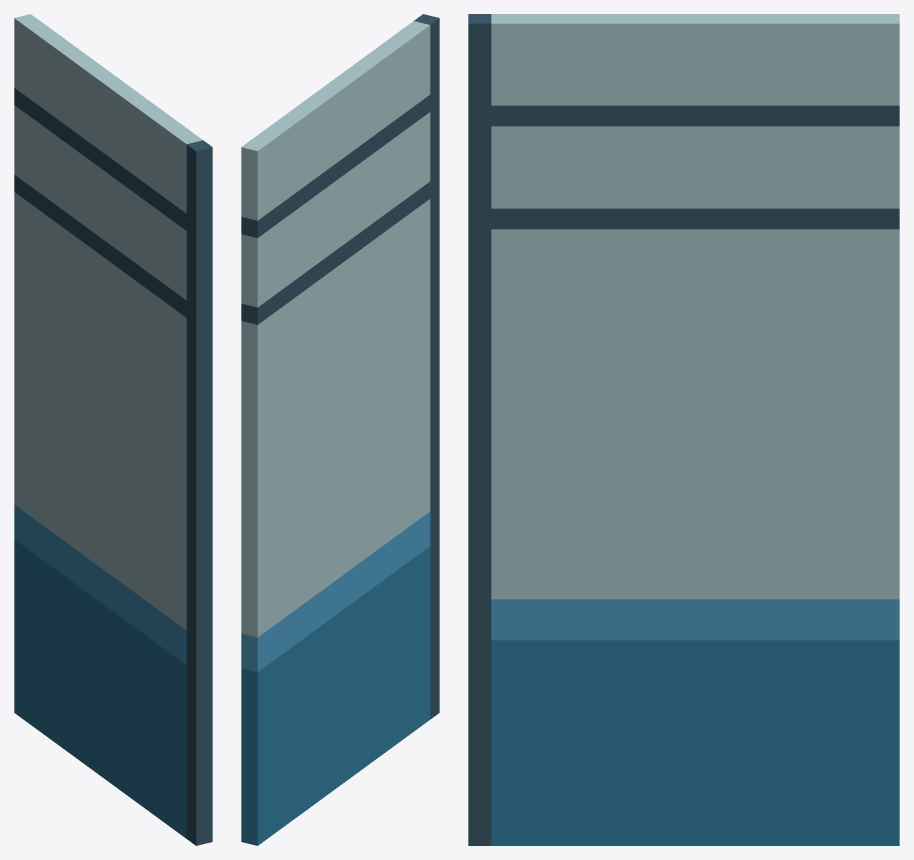
File: MedBayWalls.obj
3 views of the same model, side by side, from view 1: azimuth 30°, elevation 25°; view 2: azimuth 150°, elevation 25°; view 3: azimuth 270°, elevation 25° (orthographic). The views are drawn at different scales.
Bounding box in the file's own units: 0.1 × 4 × 1.9.
Materials: 1 (1 with a texture image).
